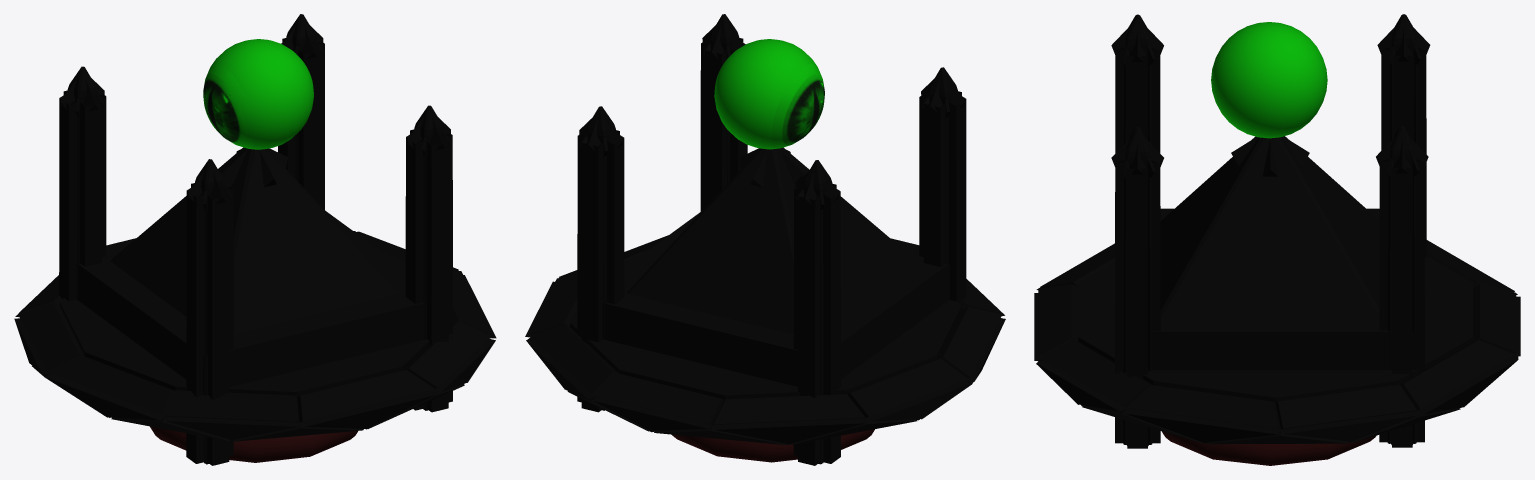
File: baddie3.glb
The picture shows the model from 3 angles, left to right: view 1: azimuth 30°, elevation 25°; view 2: azimuth 150°, elevation 25°; view 3: azimuth 270°, elevation 25°; orthographic projection. The views are drawn at different scales.
Parts seen in each view (by area): view 1: Torus; view 2: Torus; view 3: Torus.
Boxes of the visible parts, bbox=[...] form: Torus: bbox=[14, 14, 496, 465]; Torus: bbox=[525, 14, 1005, 465]; Torus: bbox=[1034, 14, 1520, 465].
Bounding box in the file's own units: 32.34 × 27.58 × 30.89.
Materials: 1 (1 with a texture image).
